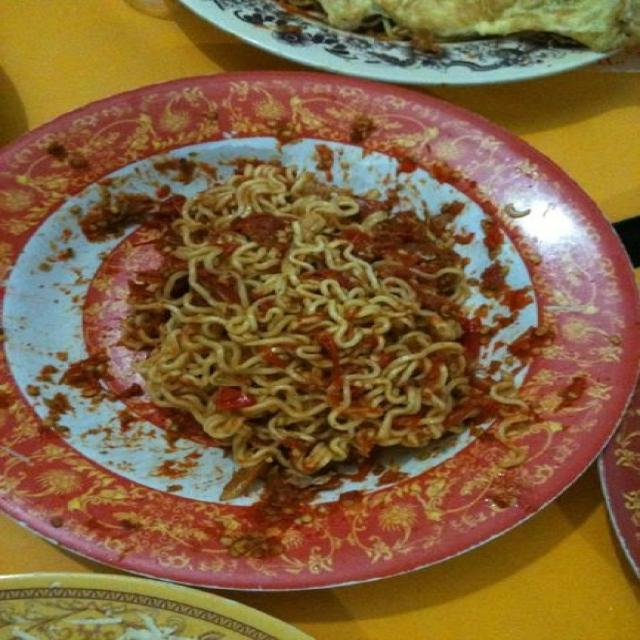面条主食: (53, 103, 581, 546)
